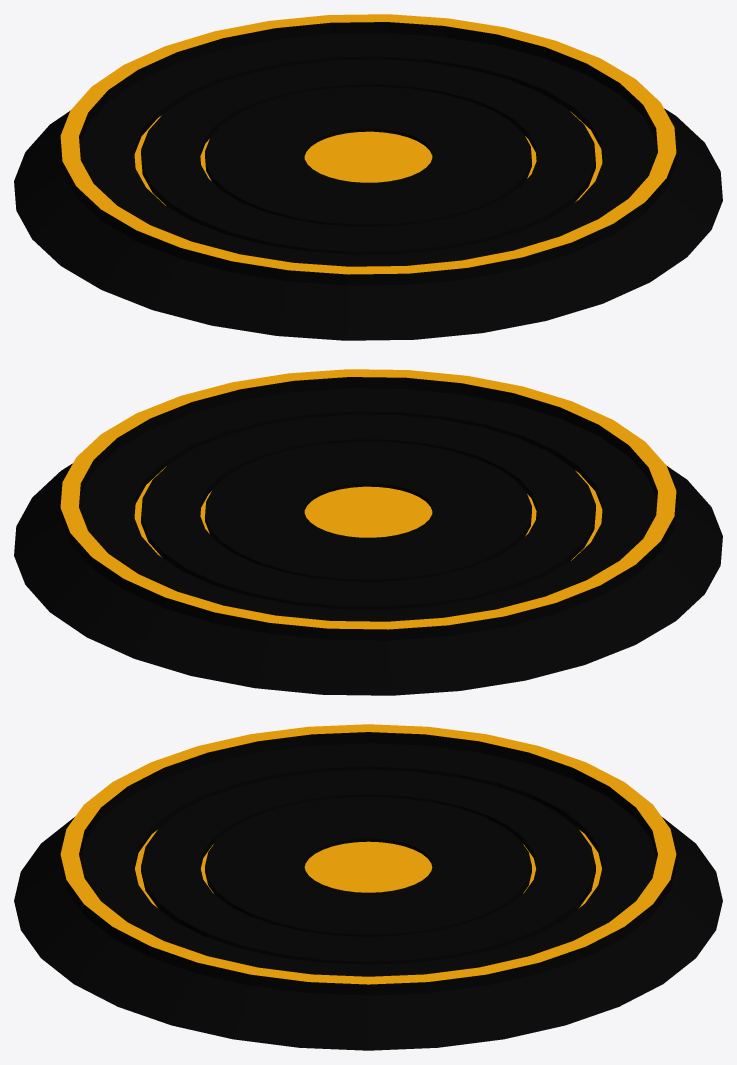
Rendered from tabley.glb.
The picture shows the model from 3 angles, top to bottom: view 1: azimuth 30°, elevation 25°; view 2: azimuth 150°, elevation 25°; view 3: azimuth 270°, elevation 25°; orthographic projection.
Visible parts, largest first — view 1: Circle; view 2: Circle; view 3: Circle.
Part boxes in pixels (bbox=[...]): Circle: bbox=[14, 14, 722, 340]; Circle: bbox=[14, 369, 722, 695]; Circle: bbox=[14, 724, 722, 1050].
Bounding box in the file's own units: 2 × 0.1448 × 2.
1 material, 1 textured.
